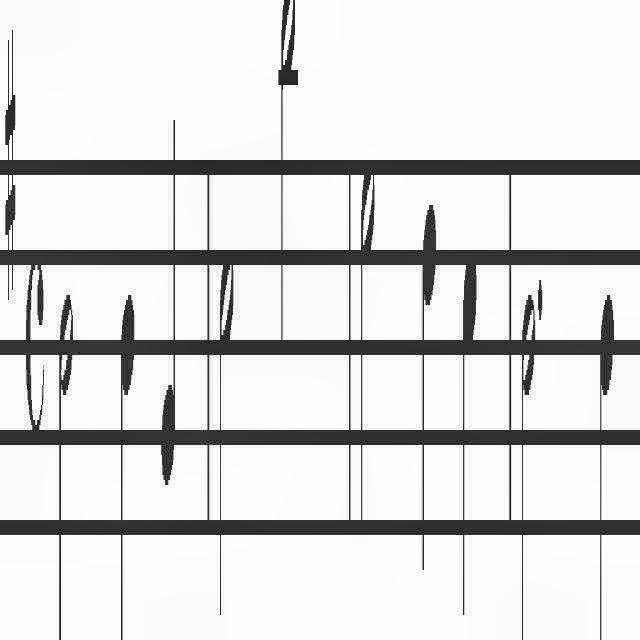Diez: (458, 209, 478, 597), (419, 165, 436, 595), (3, 31, 24, 306)
Half-note: (52, 250, 78, 640), (217, 201, 239, 631), (514, 270, 538, 640), (274, 0, 298, 340), (357, 141, 375, 535)
Quarter-note: (594, 250, 626, 640), (111, 270, 137, 640), (155, 112, 177, 484)
